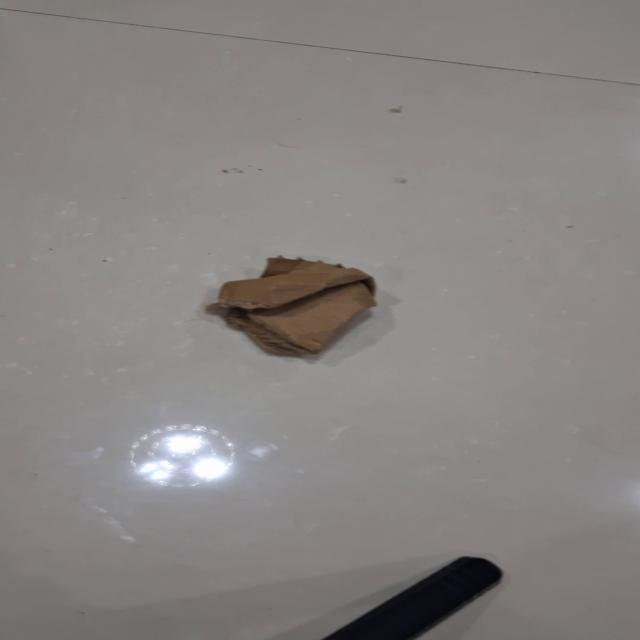paper: (208, 254, 377, 357)
